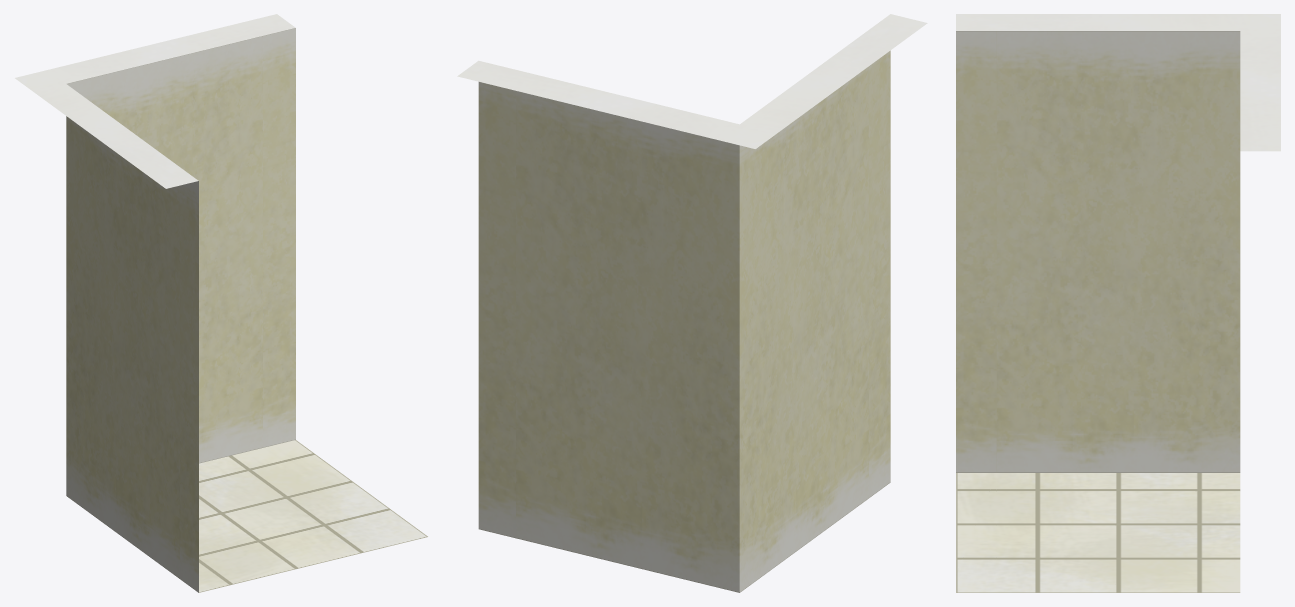
Rendered from maze_cornerNoColumn.FBX.
3 renders of one model, left to right at view 1: azimuth 30°, elevation 25°; view 2: azimuth 150°, elevation 25°; view 3: azimuth 270°, elevation 25°, orthographic. The views are drawn at different scales.
Parts seen in each view (by area): view 1: Plane01; view 2: Plane01; view 3: Plane01.
Boxes of the visible parts, x1,y1,x2,y2 form: Plane01: [15, 14, 427, 592]; Plane01: [457, 14, 927, 592]; Plane01: [956, 14, 1280, 592].
Size of the model in its own units: 32 by 48 by 32.
